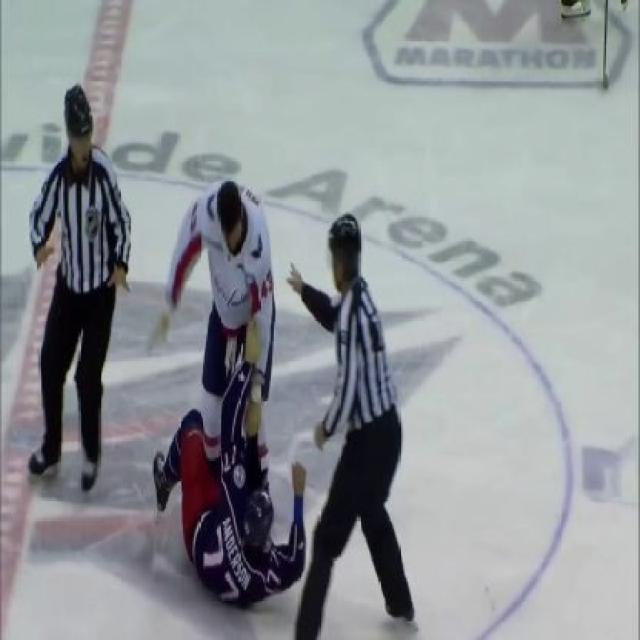fight: (123, 158, 313, 624)
non-fight: (262, 198, 443, 638), (0, 69, 152, 498)
